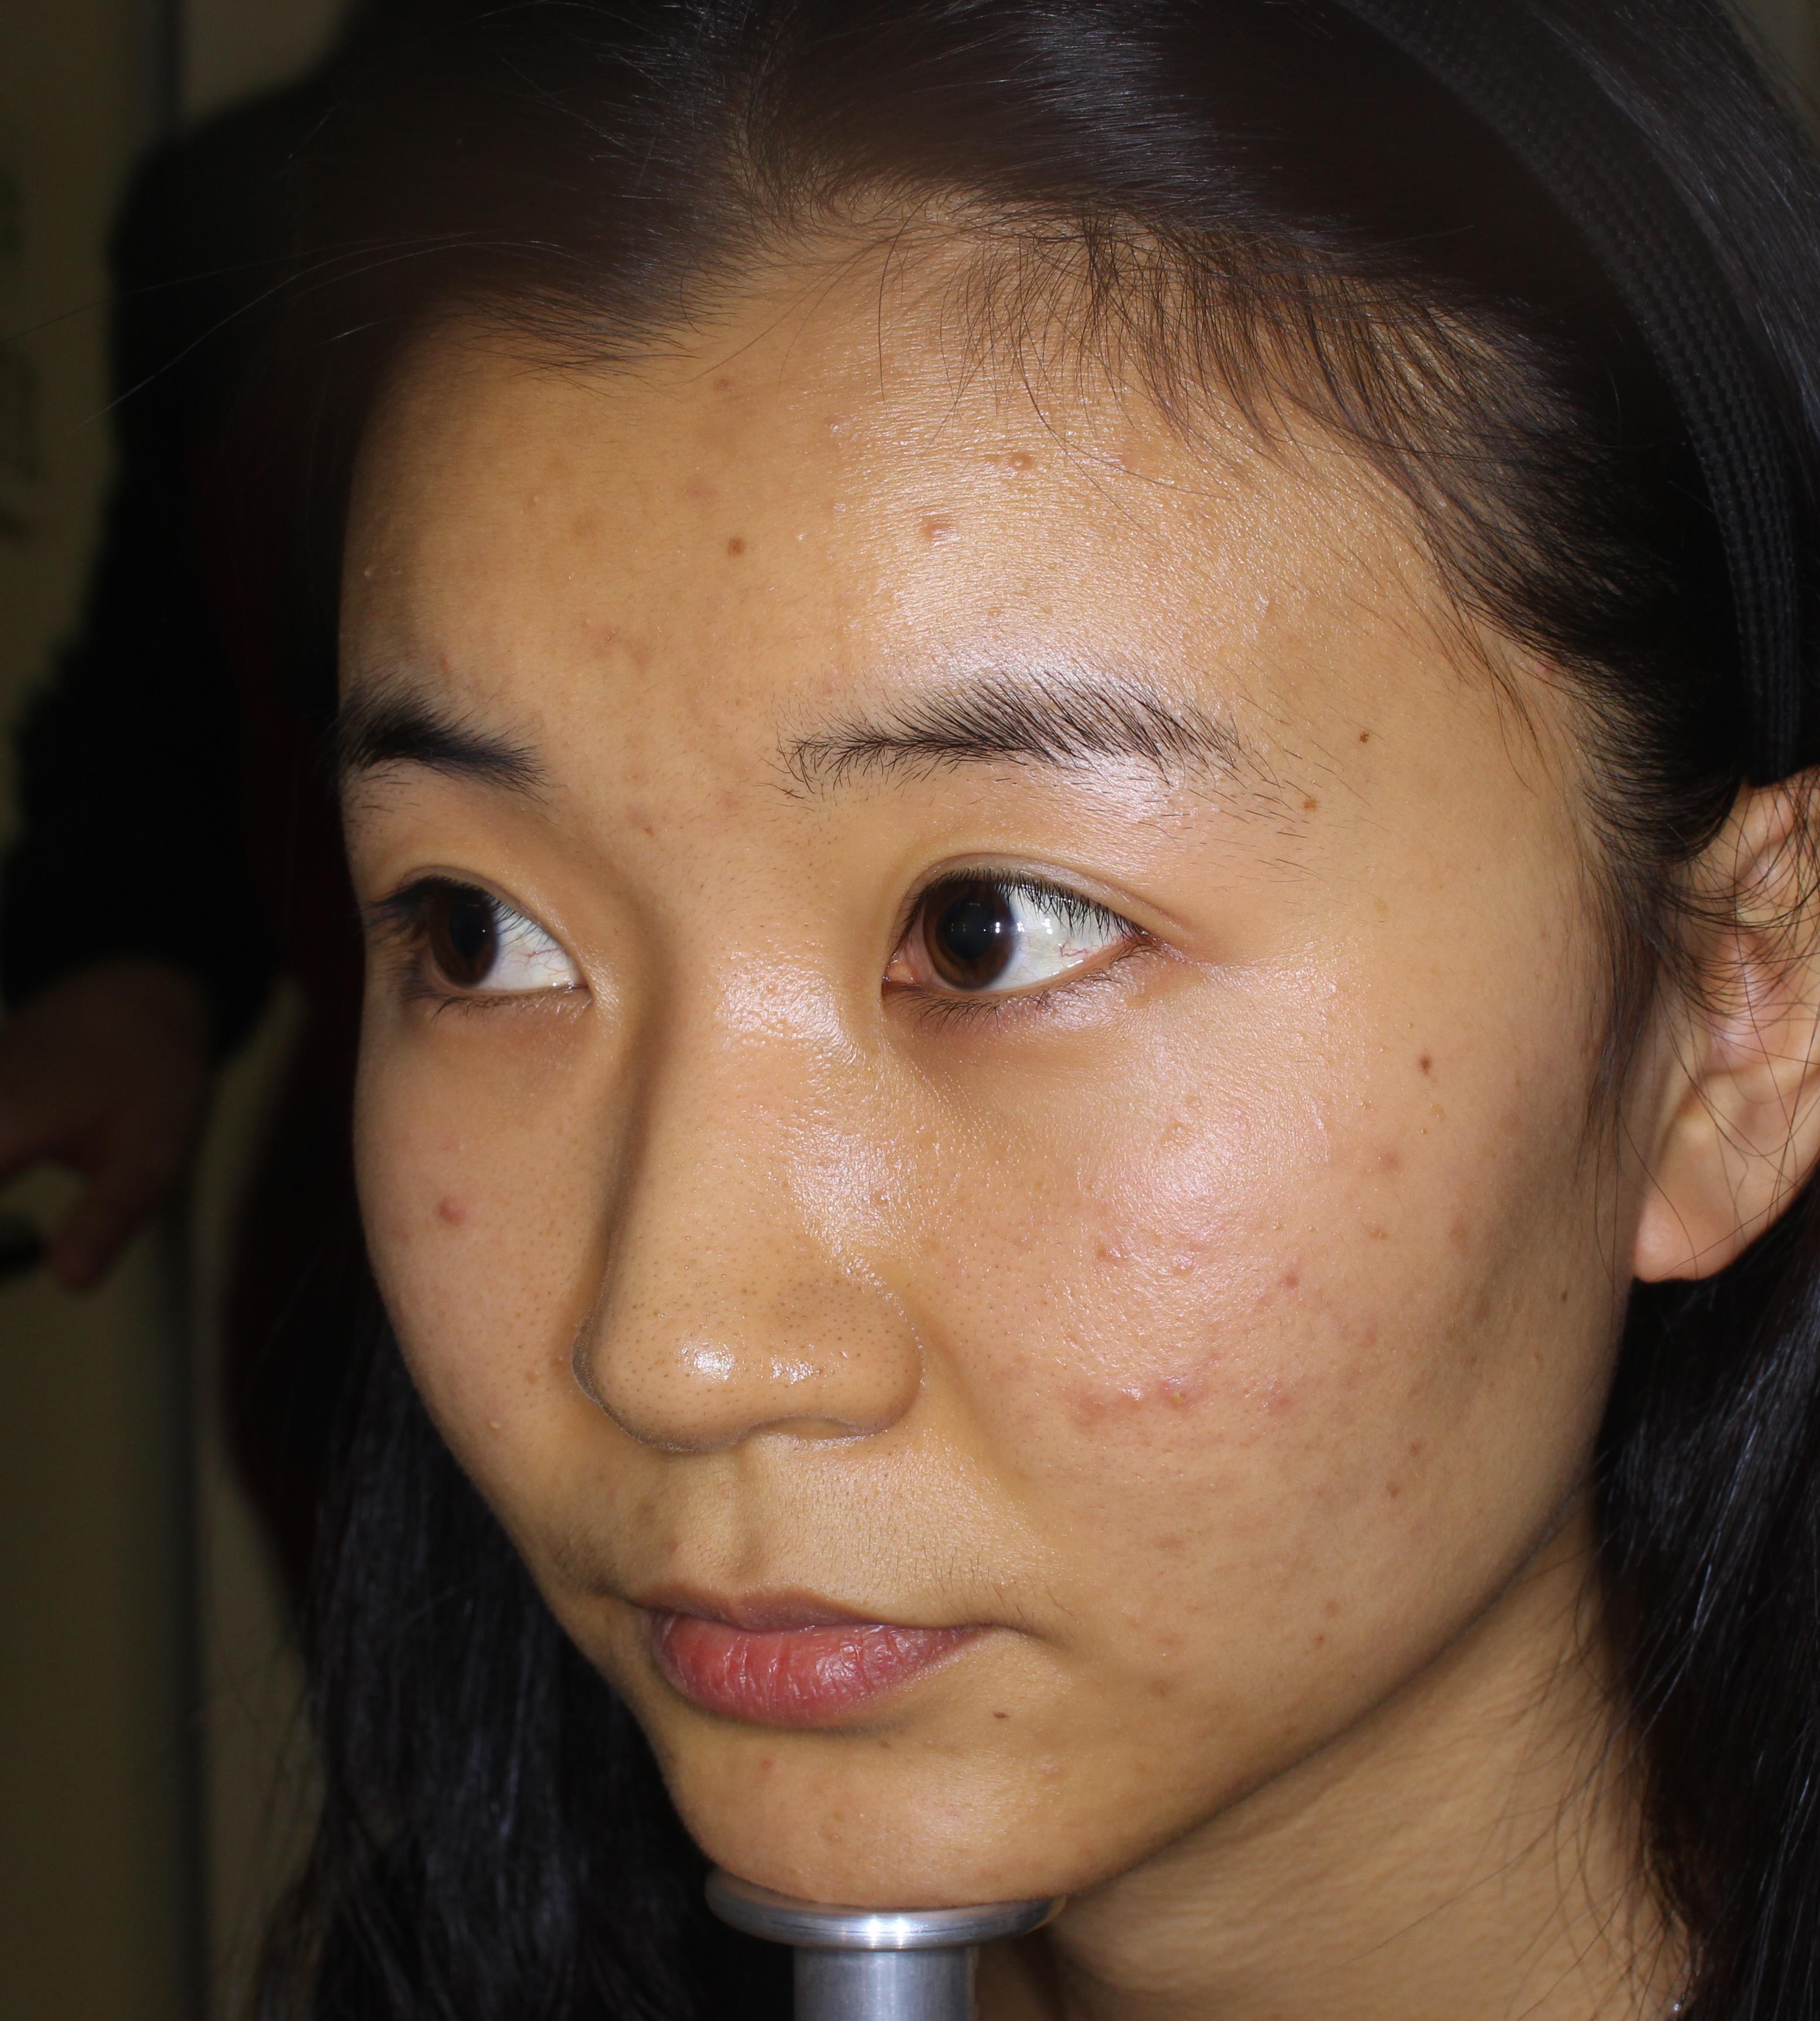fore: (1360, 1110, 1444, 1236), (589, 604, 682, 697), (1054, 1352, 1126, 1468), (1131, 1347, 1216, 1436), (418, 1155, 490, 1245), (1435, 1182, 1499, 1277), (1251, 1356, 1309, 1456)
